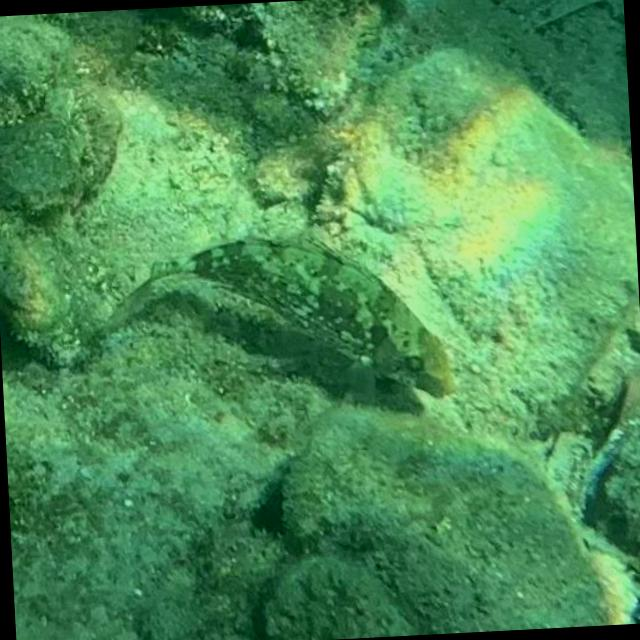Sokar Baligi: (92, 188, 482, 448)
